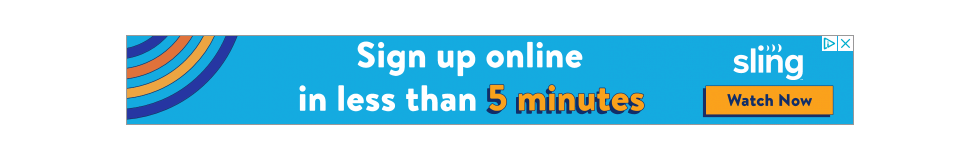fake_button: (696, 80, 843, 120)
